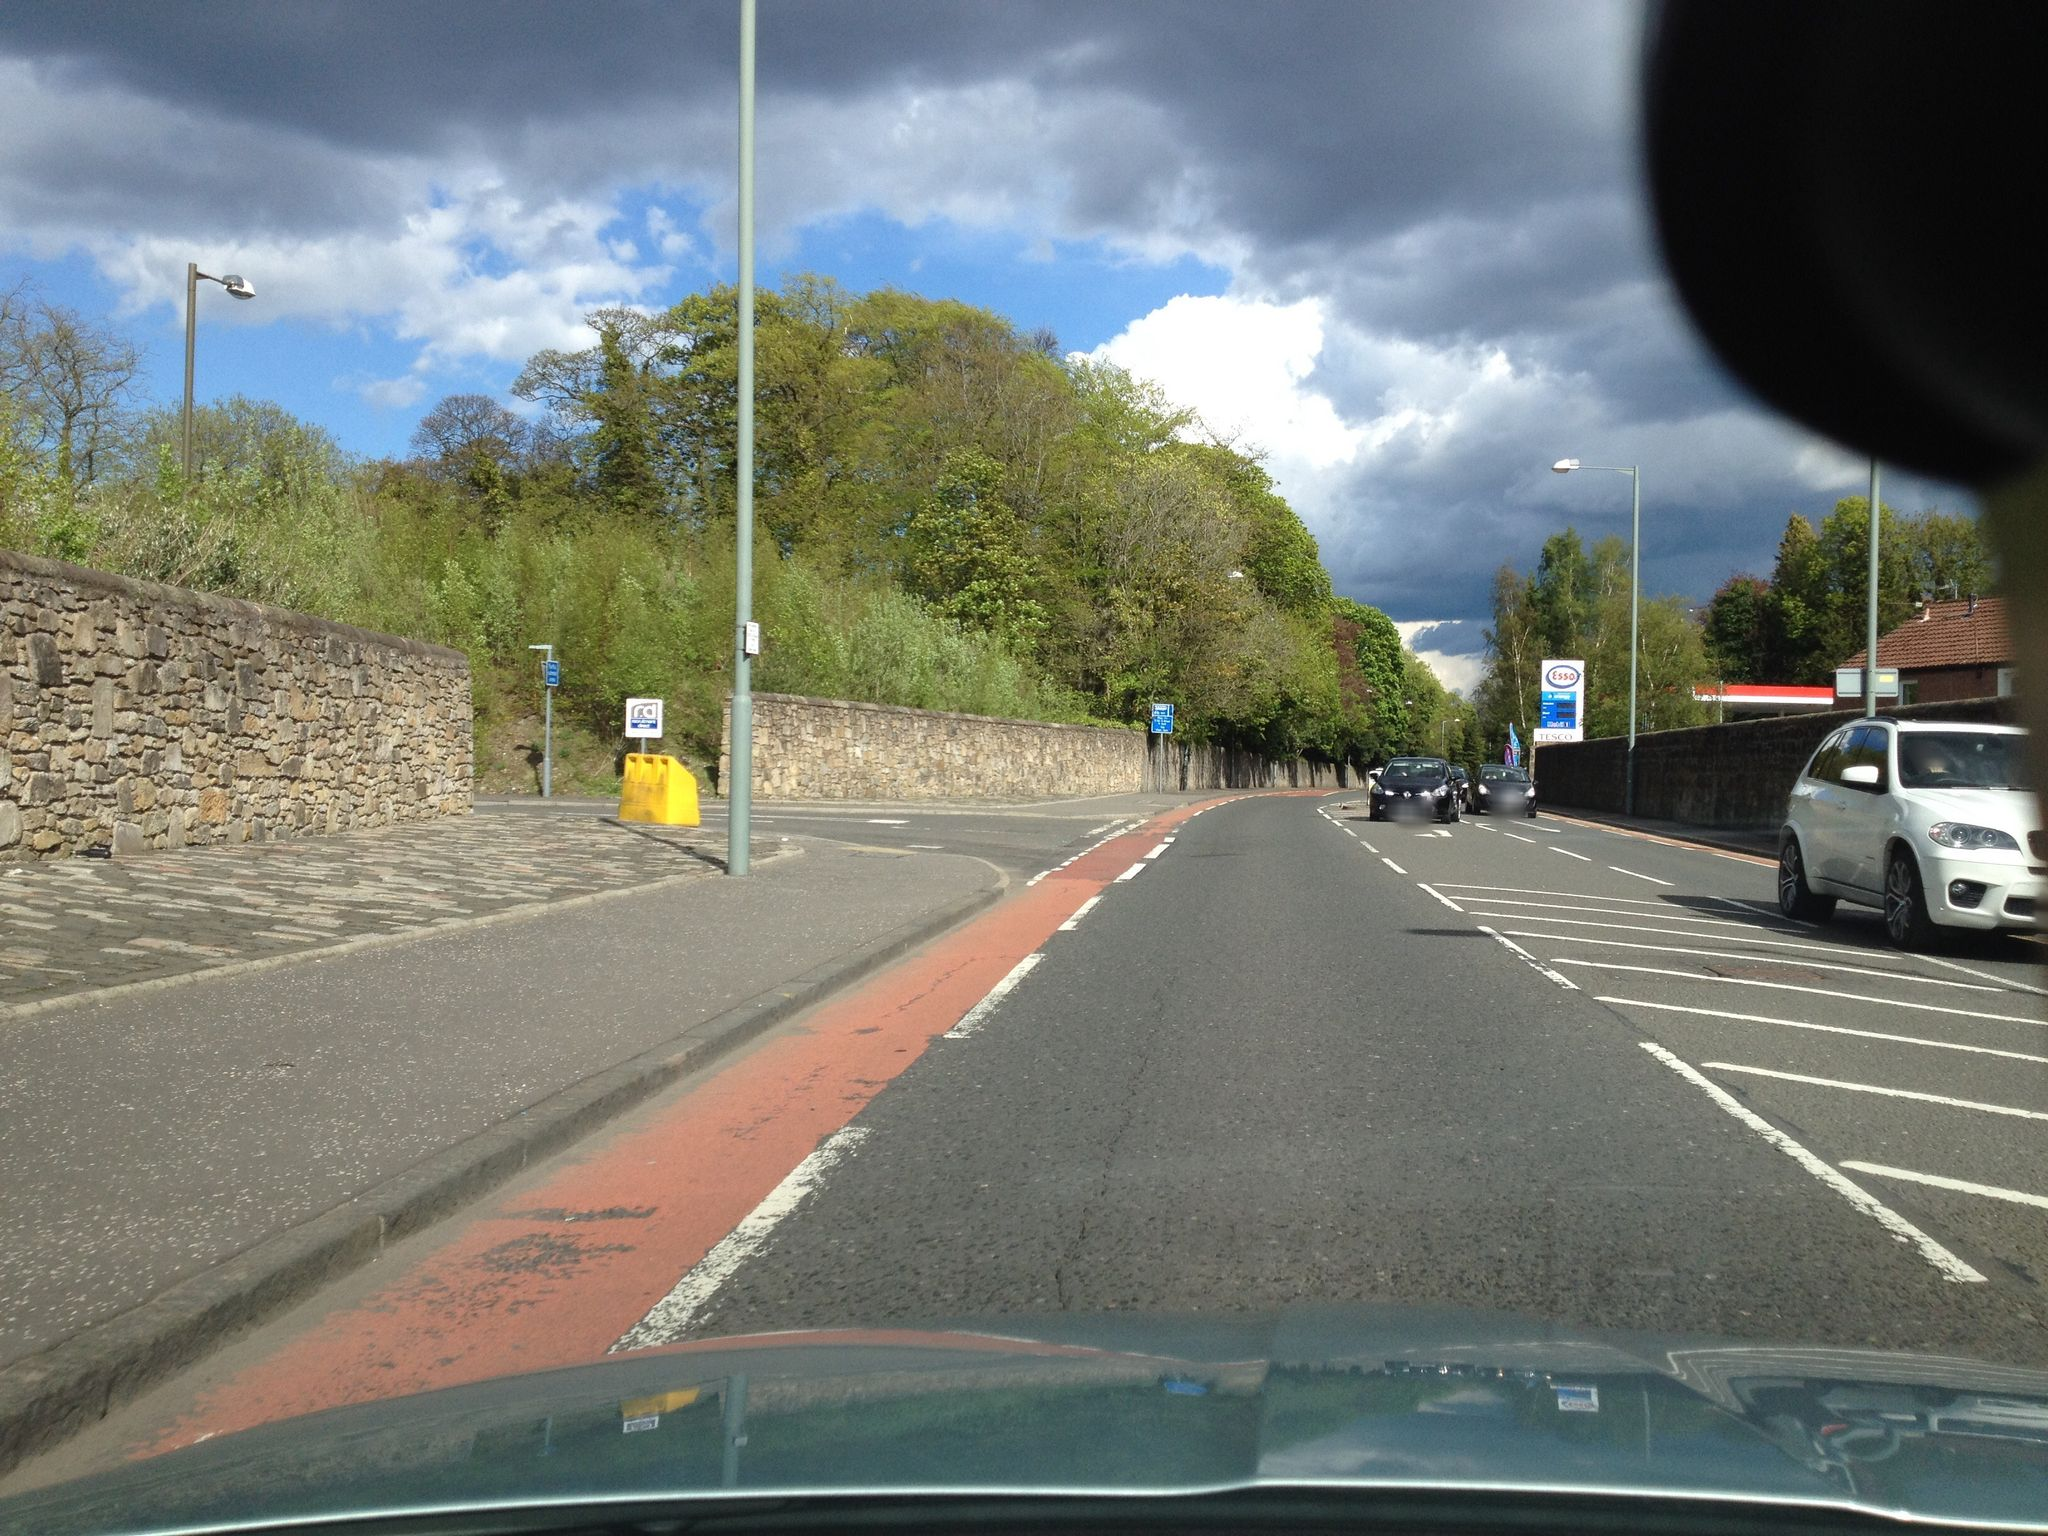car: (1779, 713, 2048, 949), (1367, 755, 1463, 824), (1464, 763, 1538, 818)
